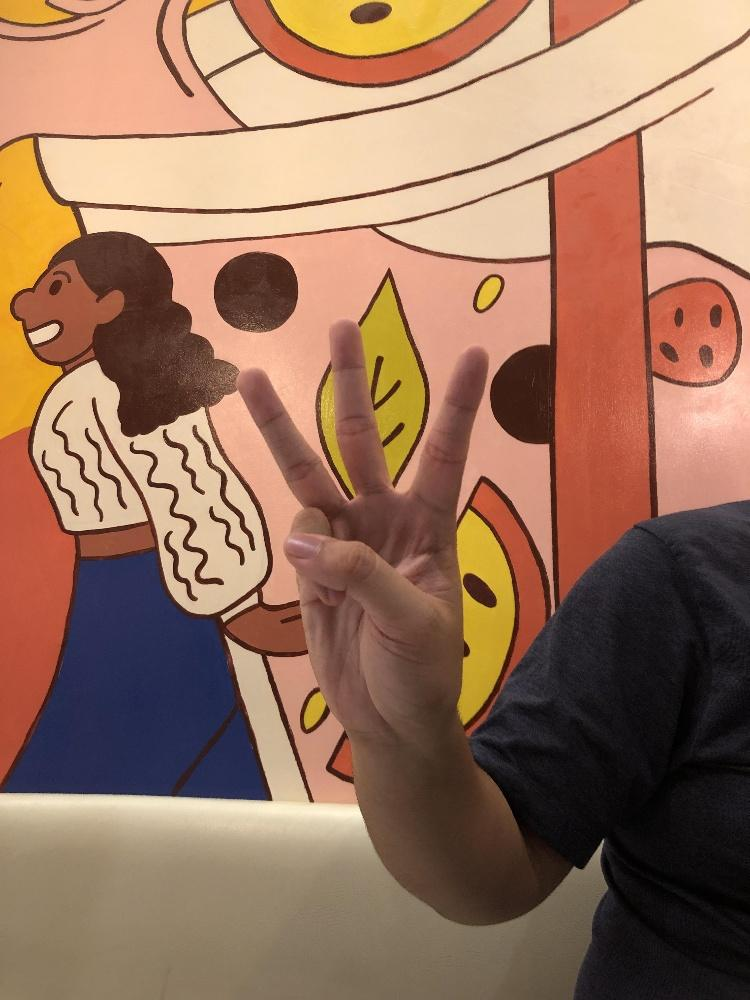w: (233, 315, 491, 740)
